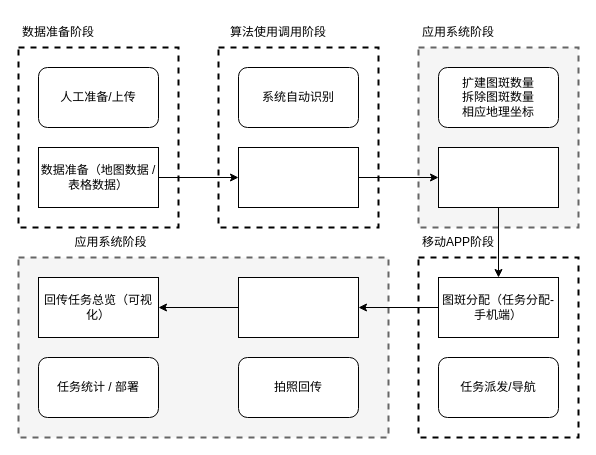
Image size: 596x455. Some labels were removed from this diagram. Here are the shapes that lost their labels. From the top down, the centre of each, then its label:
At [298,177]: "自动识别".
At [498,177]: "图斑总览（要处理的问题）".
At [298,307]: "数据回传（展示统计）".
